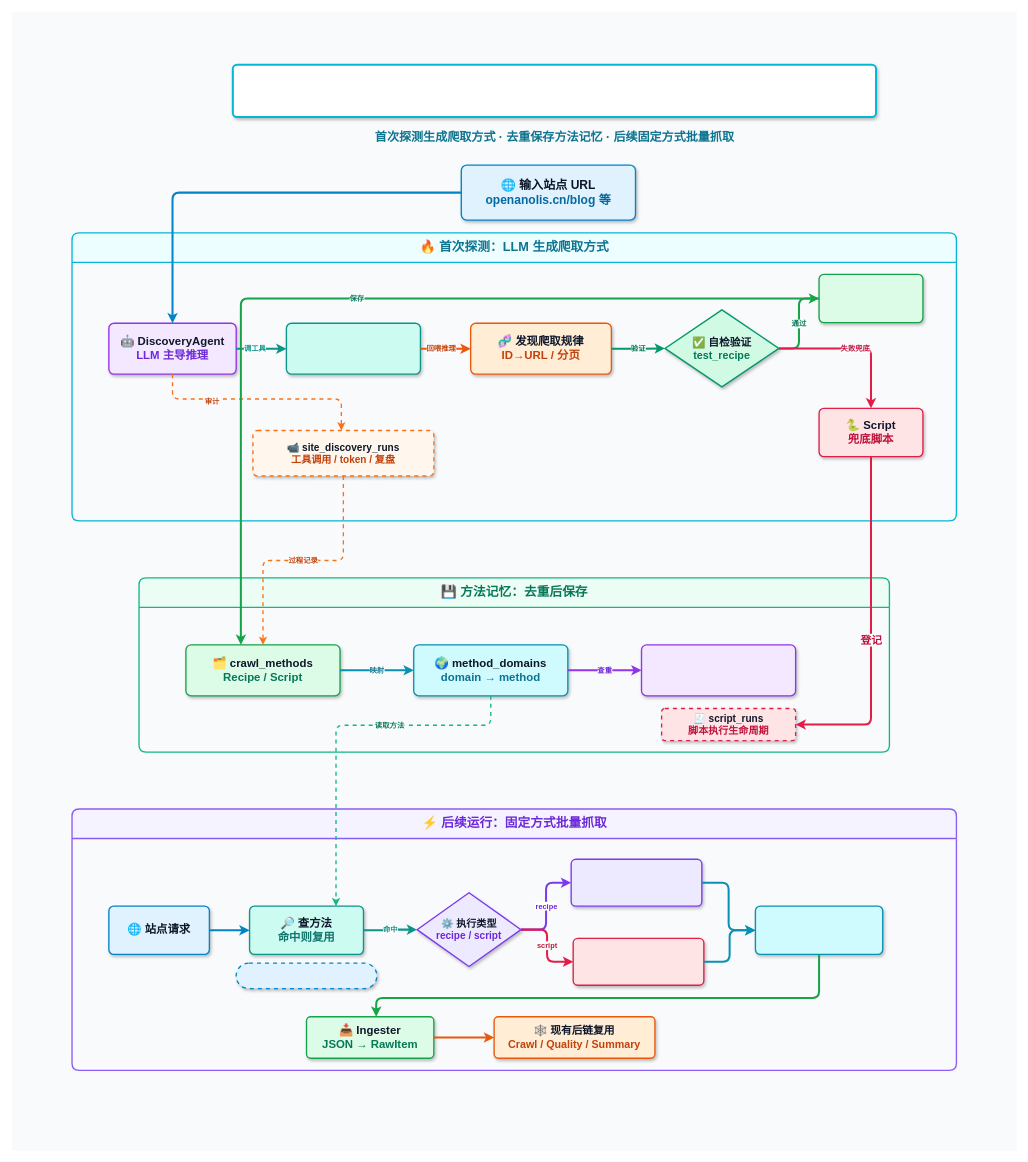
Image size: 1028x1162. Some labels were removed from this diagram. Here are the shapes that lost their labels. From the top down, the centre of each, then its label:
At point 555,91: "🧭 站点链接发现 Agent 总体框架".
At point 871,299: "📜 Recipe 固定配置".
At point 354,349: "🧰 探查工具集 页面 / XHR / JSON".
At point 719,671: "🔁 签名去重 避免重复烧 token".
At point 636,883: "📜 RecipeExecutor 翻页抓列表".
At point 819,930: "📦 标准 JSON 产出 items + stats".
At point 306,976: "无方法 → 返回首次探测".
At point 639,962: "🐍 ScriptExecutor start / collect".
